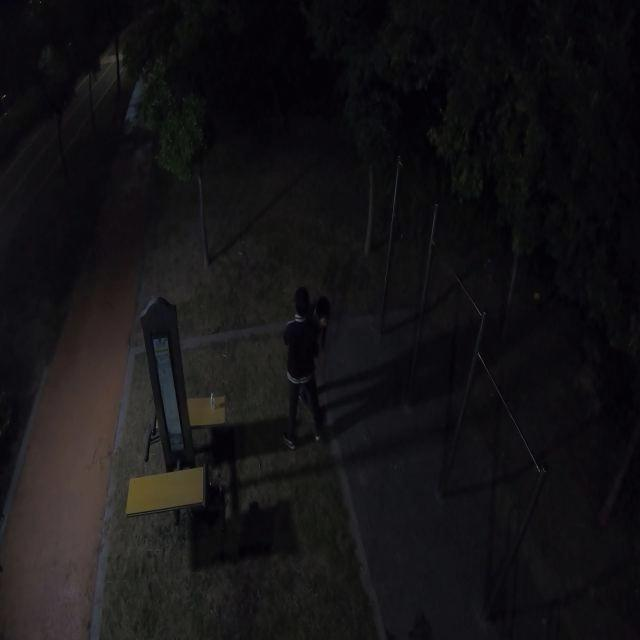fight: (273, 287, 333, 432)
